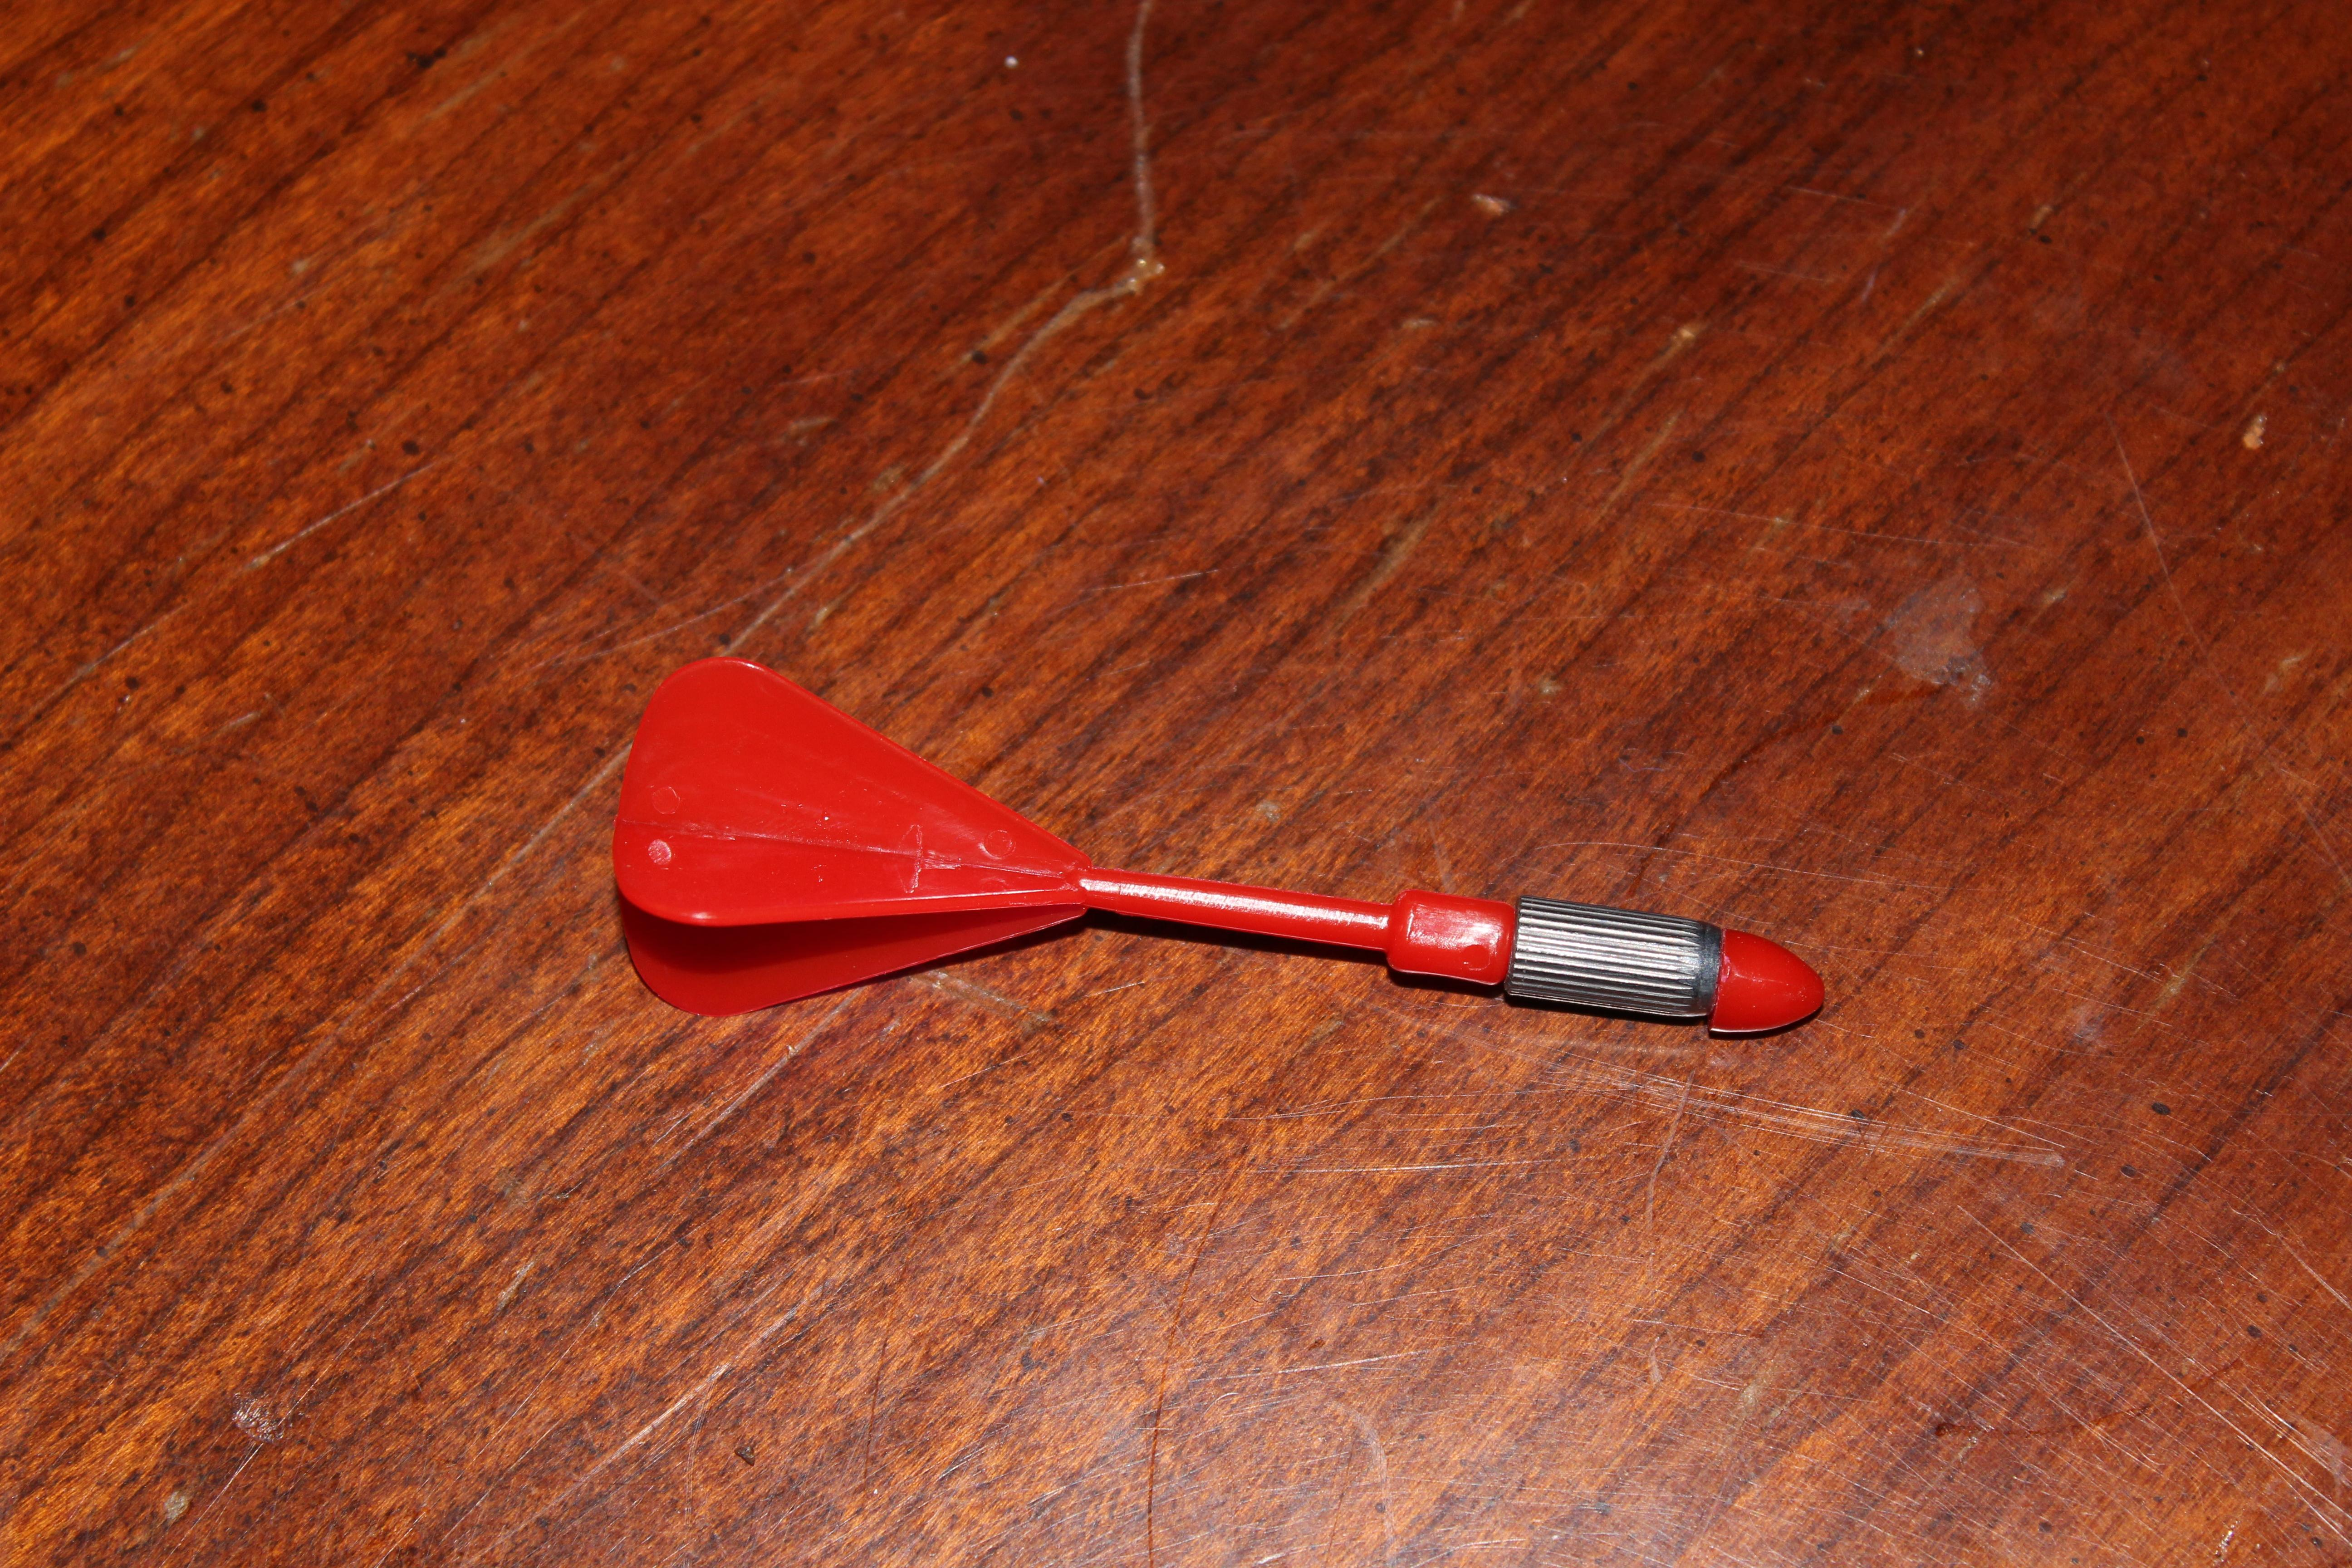redDart: (577, 611, 1855, 1109)
